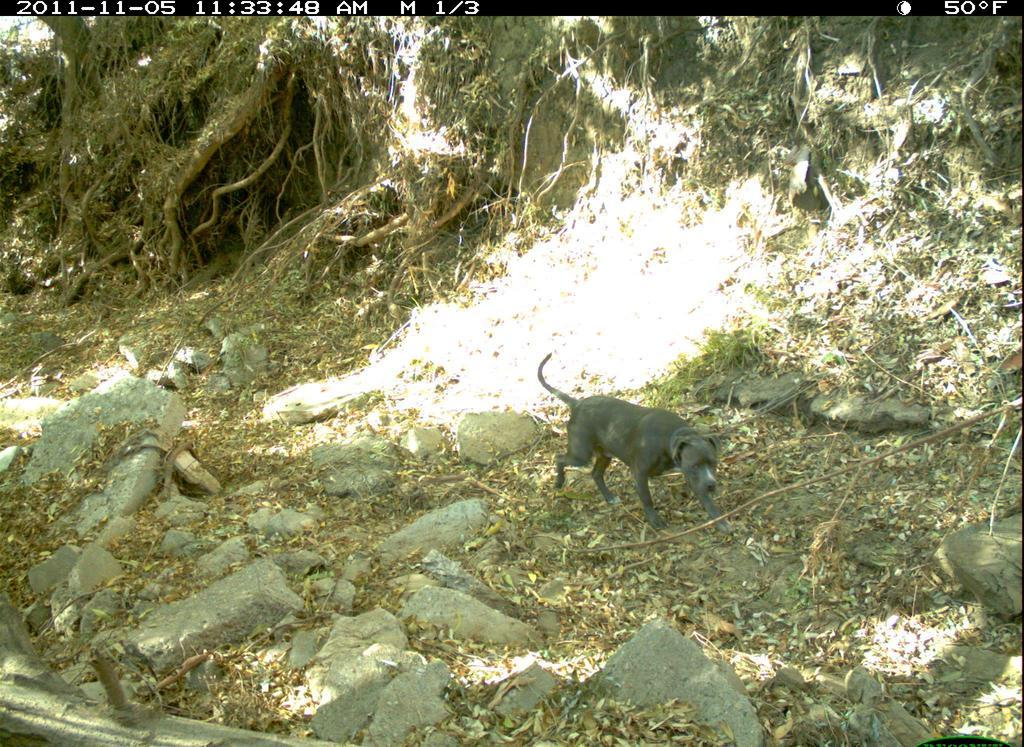dog: (530, 349, 749, 550)
